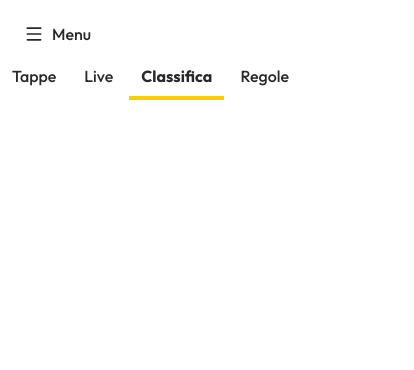
Test: PlayerNav › apre e chiude il menu aggiornando aria-expanded
This screenshot has width=414, height=370.
Step 1. Click the button "Menu" → {"x": 58, "y": 34}, box [12,12,103,56]
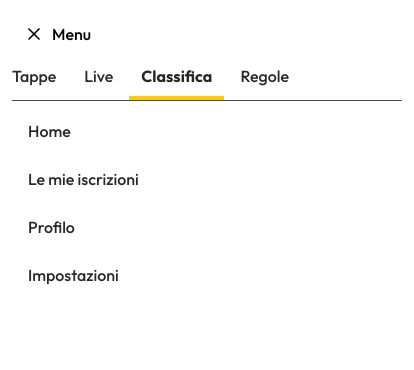
Expected: the button "Menu" is expanded
Expected: the link "Home" is shown, [28,121,71,141]
Step 2. Click the button "Menu" → {"x": 58, "y": 34}, box [12,12,103,56]
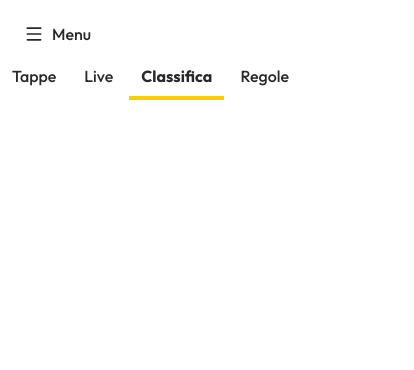
Expected: the button "Menu" is collapsed, [12,12,103,56]
